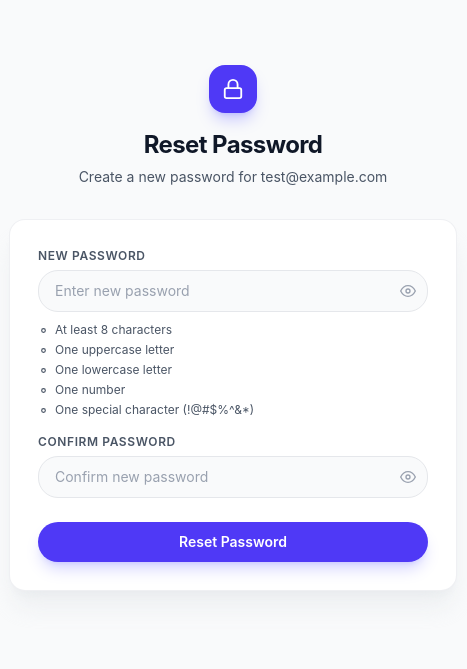
Test case: ResetPasswordPage › Error Handling › should display default error message when response missing
This screenshot has width=467, height=669.
Type "StrongP@ss123" into the password field labelled "New Password" at (233, 291), box x1=38 y1=270 x2=428 y2=312
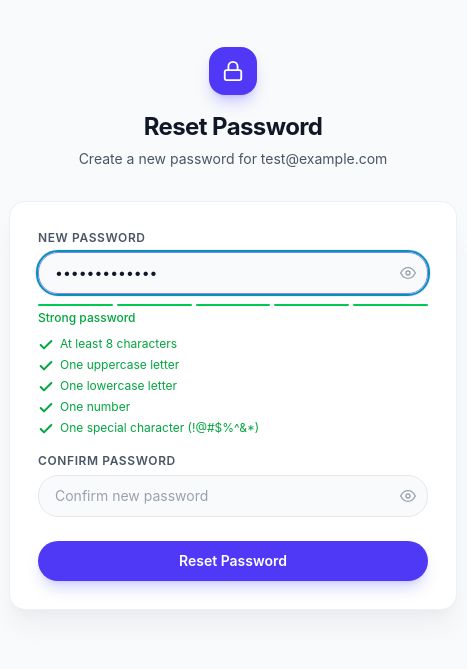
Type "StrongP@ss123" into the password field labelled "Confirm Password" at (233, 496), box x1=38 y1=474 x2=428 y2=516
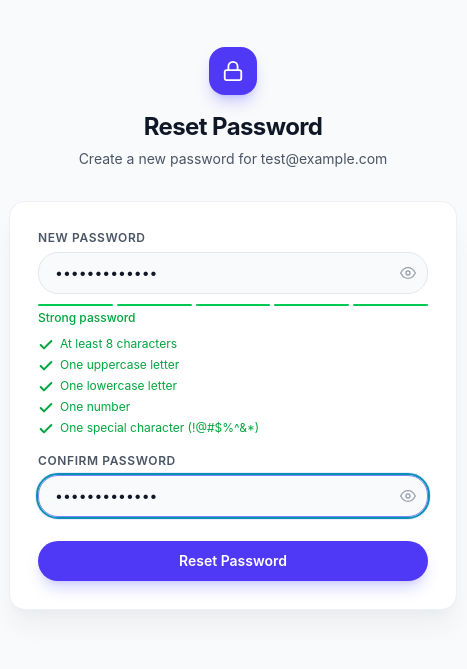
Click the button "Reset Password" at (233, 560), box x1=38 y1=540 x2=428 y2=580
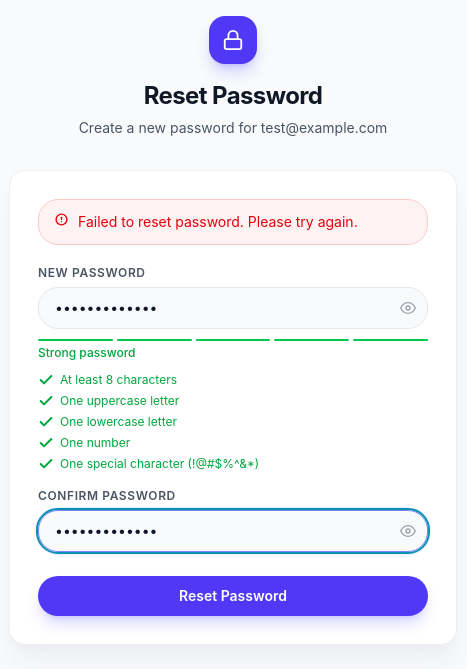
Expected: the text "Failed to reset password. Please try again." is shown, x1=78 y1=212 x2=358 y2=232
